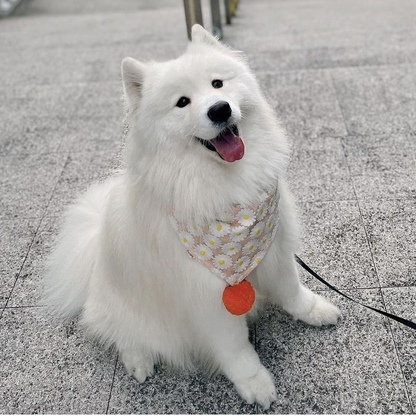samoyed: (32, 20, 349, 412)
